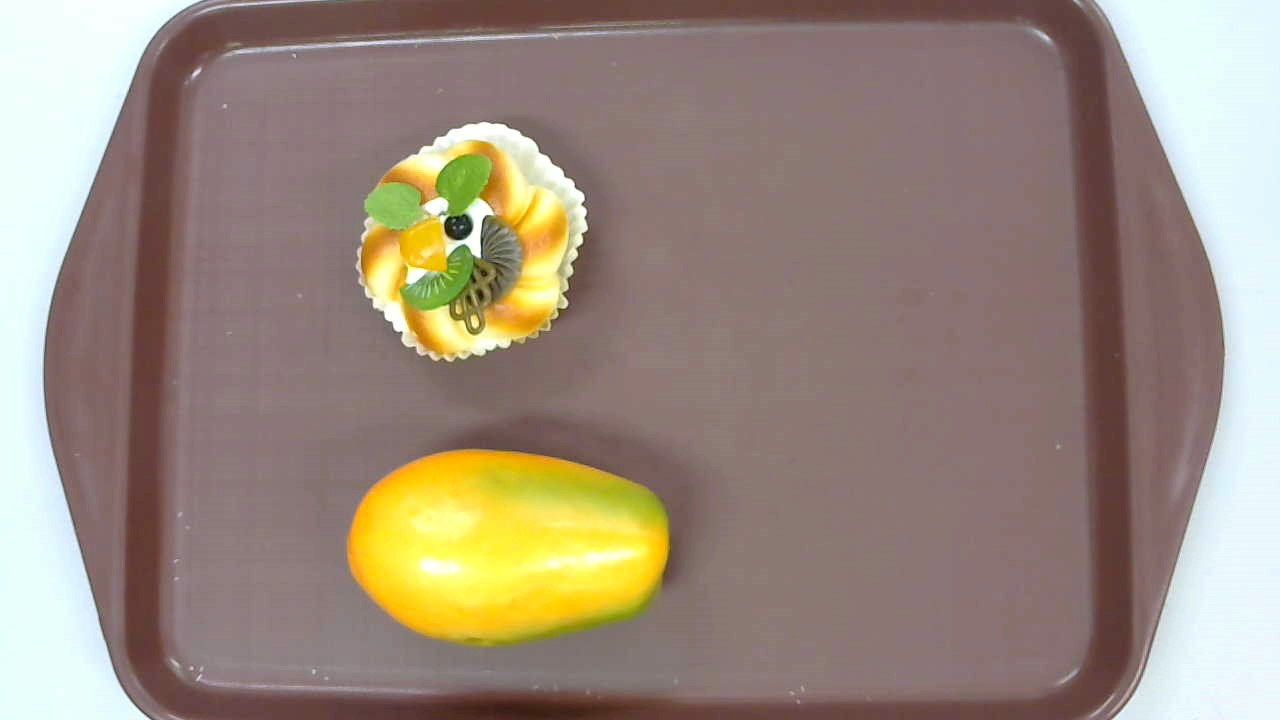fruit tart: (354, 122, 590, 363)
papya: (344, 449, 670, 645)
